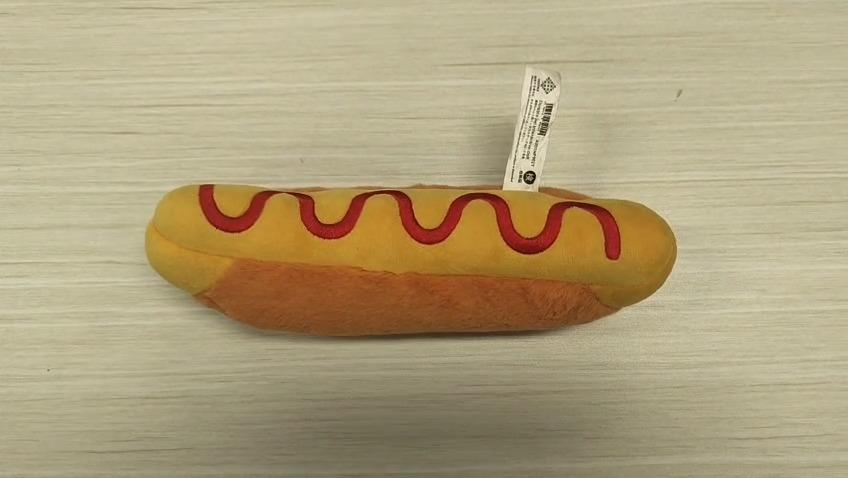hotdog: (144, 180, 677, 337)
